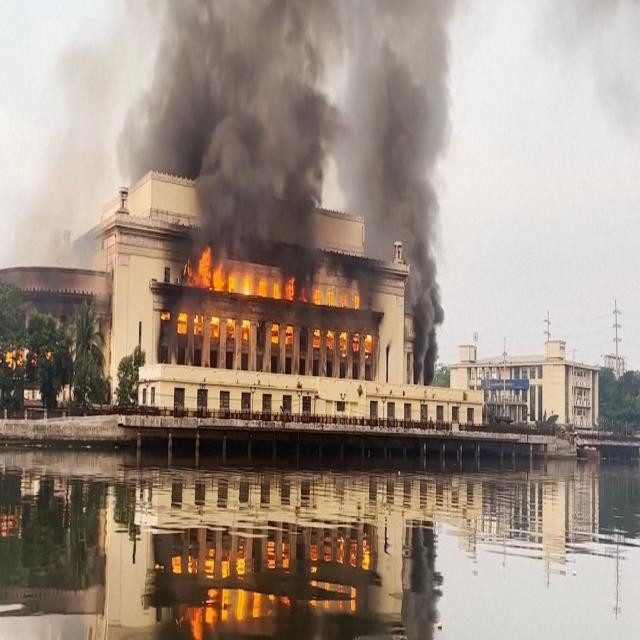Fire: (279, 275, 386, 361), (170, 248, 254, 340)
Smoke: (150, 0, 338, 249), (367, 0, 455, 372)
